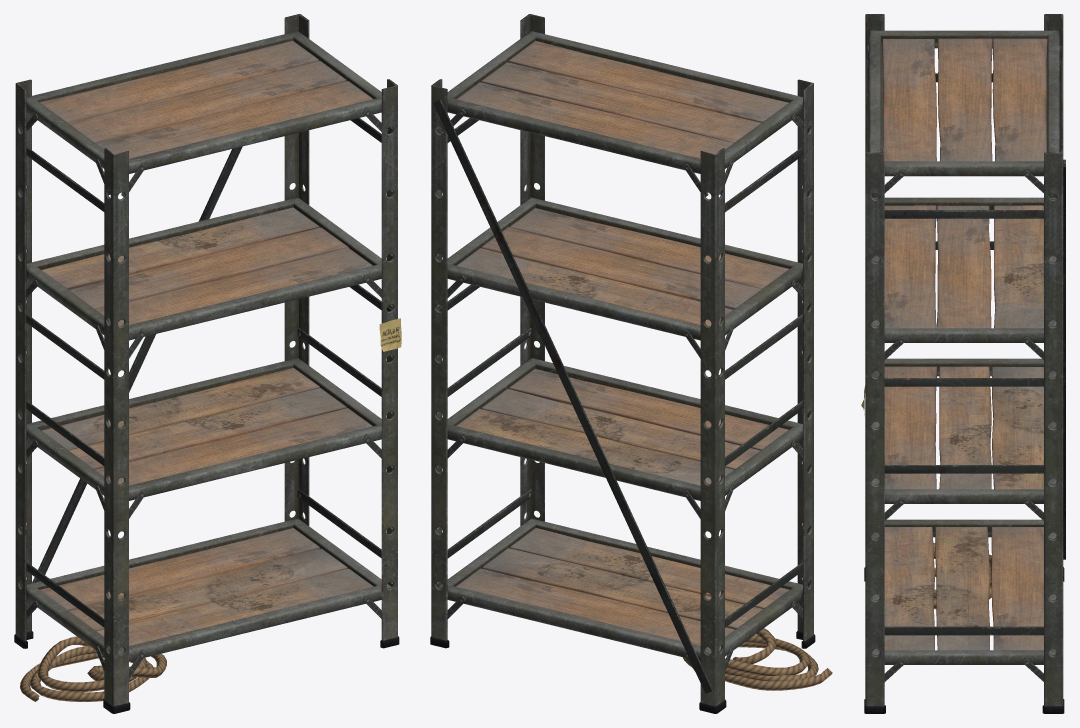
Rendered from rack_small.glb.
3 renders of one model, left to right at view 1: azimuth 30°, elevation 25°; view 2: azimuth 150°, elevation 25°; view 3: azimuth 270°, elevation 25°, orthographic.
Parts seen in each view (by area): view 1: rack_small; view 2: rack_small; view 3: rack_small.
Boxes of the visible parts, <box> form: rack_small: <box>14,14,401,713</box>; rack_small: <box>430,14,832,713</box>; rack_small: <box>861,14,1065,713</box>.
Size of the model in its own units: 1.19 by 1.88 by 0.6224.
Materials: 1 (1 with a texture image).
